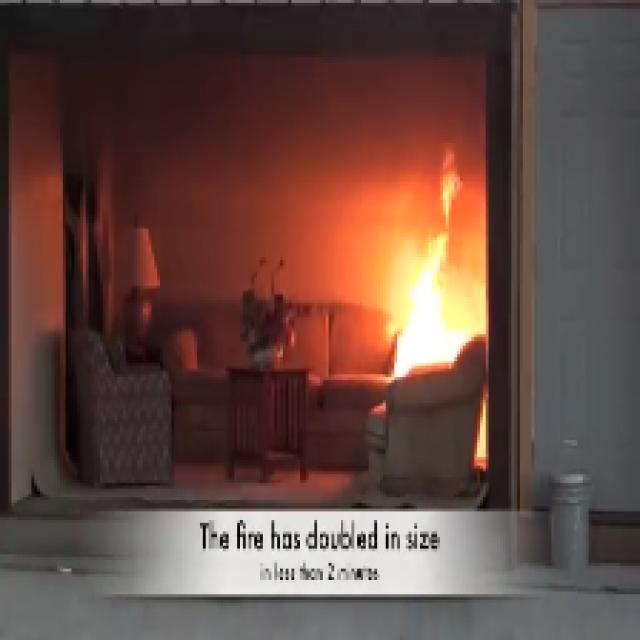fire: (386, 166, 471, 374)
